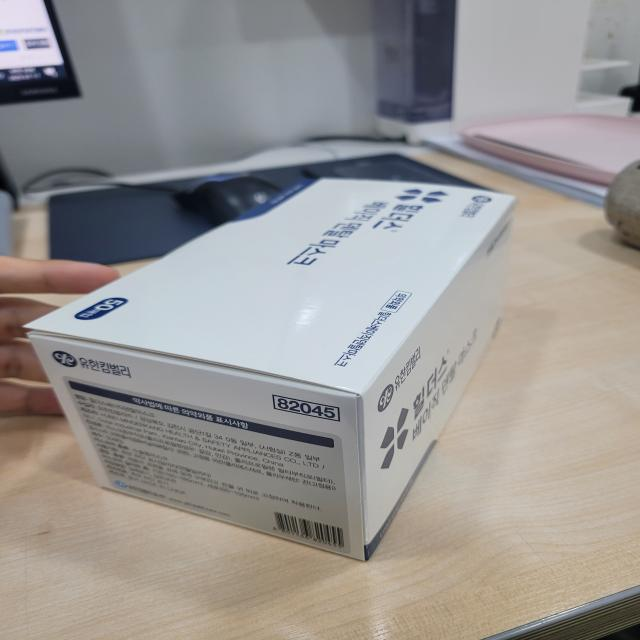mask: (15, 144, 543, 590)
